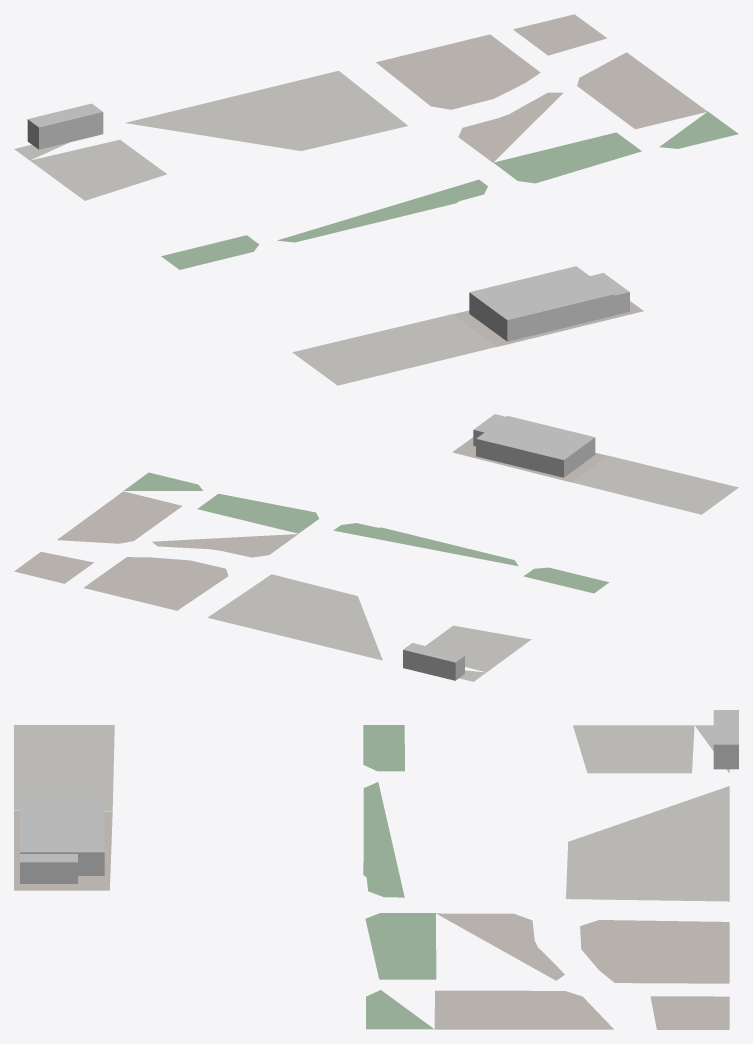
Rendered from 121_69_mid.glb.
3 views of the same model, one above another, from view 1: azimuth 30°, elevation 25°; view 2: azimuth 150°, elevation 25°; view 3: azimuth 270°, elevation 25° (orthographic). The views are drawn at different scales.
Bounding box in the file's own units: 500 × 20.85 × 507.
